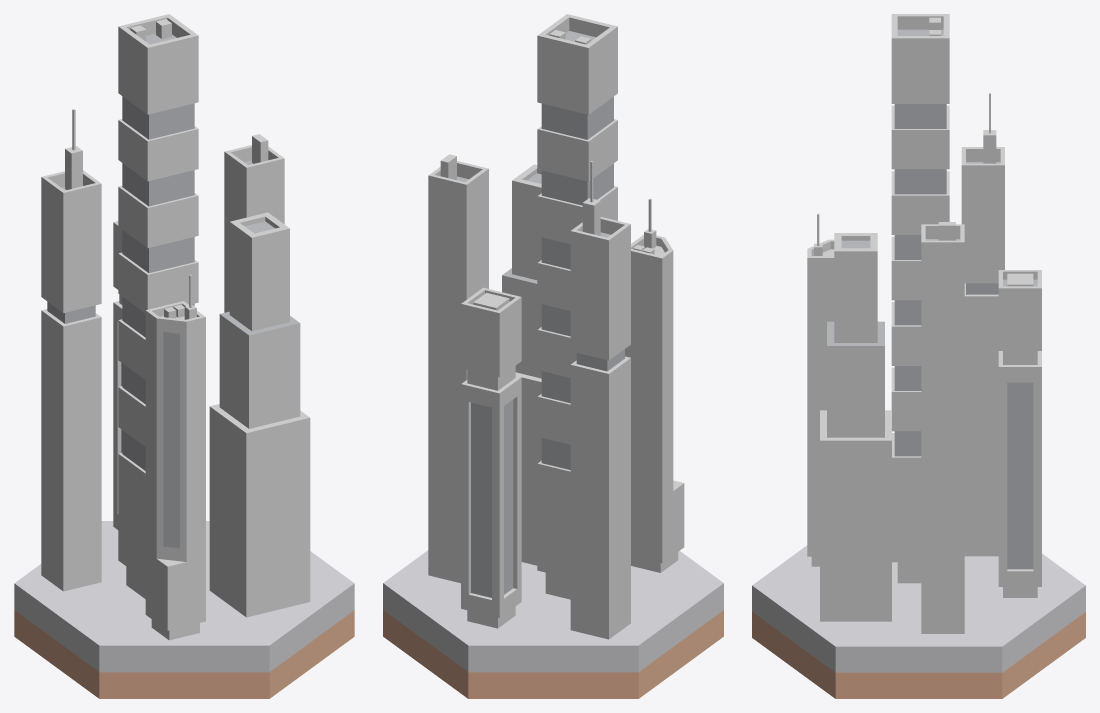
Rendered from 6_buildings_2_high.fbx.
3 views of the same model, side by side, from view 1: azimuth 30°, elevation 25°; view 2: azimuth 150°, elevation 25°; view 3: azimuth 270°, elevation 25° (orthographic). The views are drawn at different scales.
Parts seen in each view (by area): view 1: low_buildingM, pavement_high.013, low_buildingN, low_buildingI, low_buildingG, low_buildingK, low_buildingJ; view 2: pavement_high.013, low_buildingN, low_buildingI, low_buildingJ, low_buildingK, low_buildingG, low_buildingM; view 3: pavement_high.013, low_buildingM, low_buildingN, low_buildingK, low_buildingI, low_buildingJ, low_buildingG.
Boxes of the visible parts, x1,y1,x2,y2 form: low_buildingM: [209, 212, 310, 617]; pavement_high.013: [14, 521, 354, 698]; low_buildingN: [118, 14, 198, 598]; low_buildingI: [41, 109, 101, 591]; low_buildingG: [145, 275, 205, 640]; low_buildingK: [224, 134, 284, 312]; low_buildingJ: [113, 221, 122, 529]; pavement_high.013: [383, 550, 723, 698]; low_buildingN: [537, 14, 617, 599]; low_buildingI: [570, 161, 630, 639]; low_buildingJ: [461, 287, 521, 628]; low_buildingK: [428, 154, 488, 583]; low_buildingG: [625, 198, 684, 572]; low_buildingM: [502, 164, 541, 565]; pavement_high.013: [752, 545, 1085, 698]; low_buildingM: [820, 233, 891, 621]; low_buildingN: [891, 14, 949, 583]; low_buildingK: [921, 222, 964, 633]; low_buildingI: [961, 93, 1004, 556]; low_buildingJ: [998, 270, 1041, 597]; low_buildingG: [807, 213, 834, 566].
Bounding box in the file's own units: 100 × 229 × 115.
